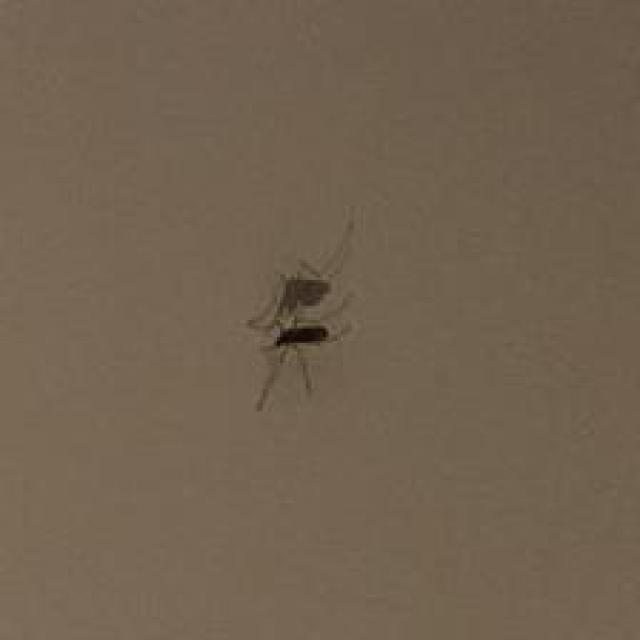Culex: (245, 204, 362, 413)
